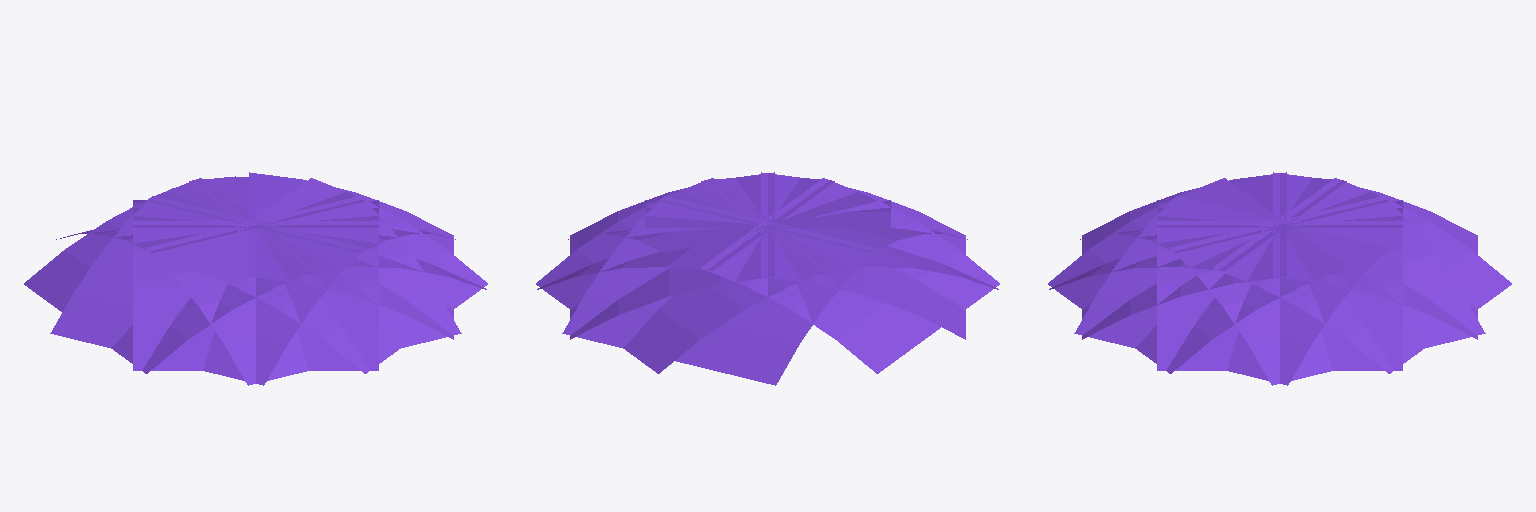
File: GroundLeafs.obj
3 renders of one model, left to right at view 1: azimuth 30°, elevation 25°; view 2: azimuth 150°, elevation 25°; view 3: azimuth 270°, elevation 25°, orthographic.
Visible parts, largest first — view 1: Plane003, Plane002, Plane004, Plane005, Plane001, Plane006, Plane007, Plane010, Plane008, Plane009; view 2: Plane010, Plane001, Plane009, Plane002, Plane008, Plane007, Plane003, Plane006, Plane005, Plane004; view 3: Plane007, Plane006, Plane008, Plane005, Plane009, Plane004, Plane010, Plane003, Plane002, Plane001.
Boxes of the visible parts, x1=… form: Plane003: x1=133, y1=221, x2=378, y2=370; Plane002: x1=50, y1=196, x2=365, y2=385; Plane004: x1=146, y1=196, x2=461, y2=385; Plane005: x1=189, y1=178, x2=487, y2=373; Plane001: x1=24, y1=178, x2=322, y2=373; Plane006: x1=249, y1=172, x2=453, y2=339; Plane007: x1=189, y1=176, x2=486, y2=289; Plane010: x1=56, y1=188, x2=364, y2=252; Plane008: x1=147, y1=188, x2=455, y2=252; Plane009: x1=133, y1=200, x2=378, y2=227; Plane010: x1=562, y1=196, x2=877, y2=385; Plane001: x1=701, y1=178, x2=999, y2=373; Plane009: x1=536, y1=178, x2=834, y2=373; Plane002: x1=761, y1=172, x2=965, y2=339; Plane008: x1=570, y1=172, x2=774, y2=339; Plane007: x1=537, y1=178, x2=834, y2=289; Plane003: x1=701, y1=178, x2=998, y2=289; Plane006: x1=568, y1=188, x2=876, y2=252; Plane005: x1=645, y1=200, x2=890, y2=227; Plane004: x1=659, y1=188, x2=967, y2=252; Plane007: x1=1157, y1=221, x2=1402, y2=370; Plane006: x1=1074, y1=196, x2=1389, y2=385; Plane008: x1=1170, y1=196, x2=1485, y2=385; Plane005: x1=1048, y1=178, x2=1346, y2=373; Plane009: x1=1213, y1=178, x2=1511, y2=373; Plane004: x1=1082, y1=172, x2=1286, y2=339; Plane010: x1=1273, y1=172, x2=1477, y2=339; Plane003: x1=1049, y1=178, x2=1346, y2=289; Plane002: x1=1080, y1=188, x2=1388, y2=252; Plane001: x1=1157, y1=200, x2=1402, y2=227.
Bounding box in the file's own units: 149 × 22.26 × 149.